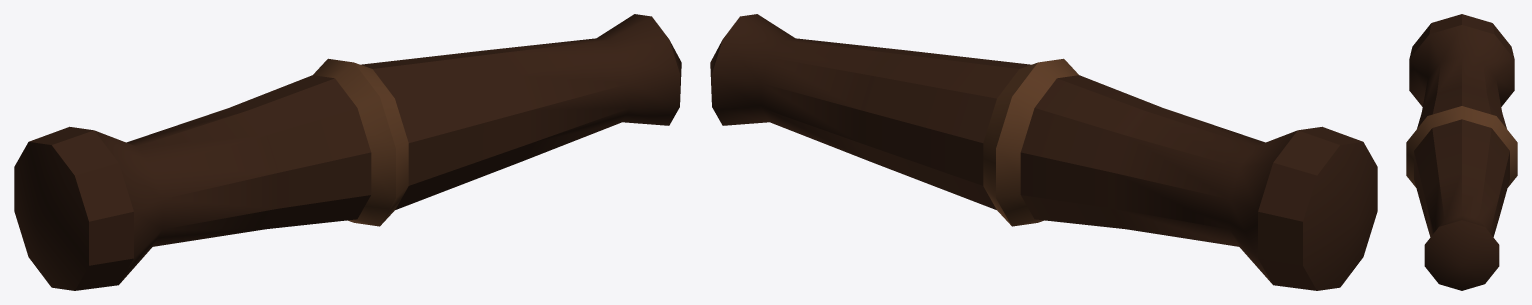
Rendered from wl_leg_a.glb.
3 renders of one model, left to right at view 1: azimuth 30°, elevation 25°; view 2: azimuth 150°, elevation 25°; view 3: azimuth 270°, elevation 25°, orthographic. The views are drawn at different scales.
Visible parts, largest first — view 1: teil0, teil1; view 2: teil0, teil1; view 3: teil0, teil1.
Boxes of the visible parts, bbox=[...] form: teil0: bbox=[14, 14, 681, 290]; teil1: bbox=[313, 58, 408, 226]; teil0: bbox=[710, 14, 1377, 290]; teil1: bbox=[983, 58, 1078, 226]; teil0: bbox=[1409, 14, 1514, 290]; teil1: bbox=[1406, 106, 1517, 187].
Size of the model in its own units: 0.152 by 0.036 by 0.0342.
